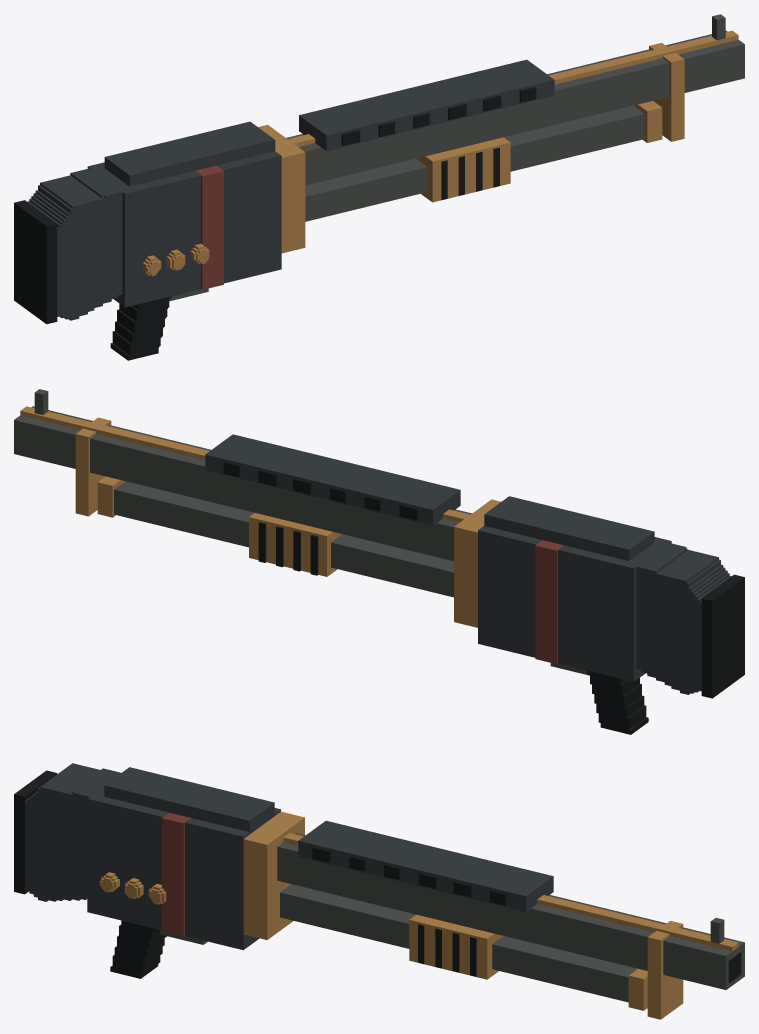
File: bolt_scattergun.glb
3 renders of one model, top to bottom at view 1: azimuth 30°, elevation 25°; view 2: azimuth 150°, elevation 25°; view 3: azimuth 330°, elevation 25°, orthographic.
Visible parts, largest first — view 1: bolt_scattergun:compound; view 2: bolt_scattergun:compound; view 3: bolt_scattergun:compound.
Part boxes in pixels (bbox=[...]): bolt_scattergun:compound: bbox=[14, 14, 744, 360]; bolt_scattergun:compound: bbox=[14, 389, 744, 734]; bolt_scattergun:compound: bbox=[14, 763, 744, 1019].
Size of the model in its own units: 1.3 by 0.336 by 0.14.
